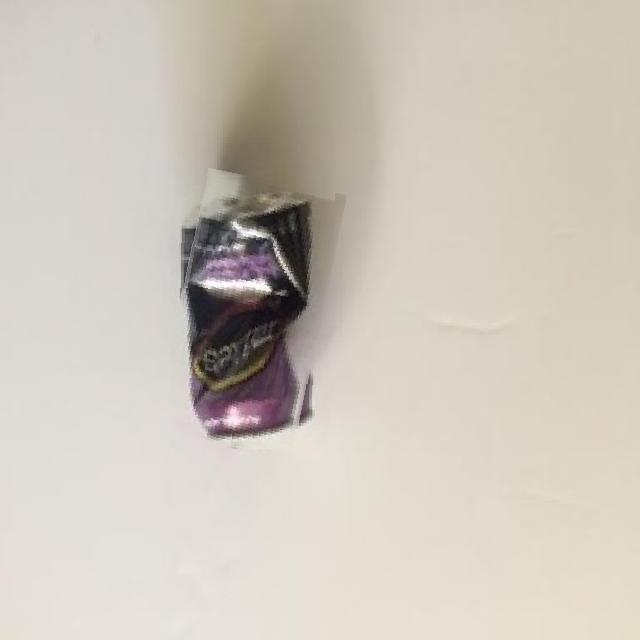recyclable: (170, 174, 335, 449)
